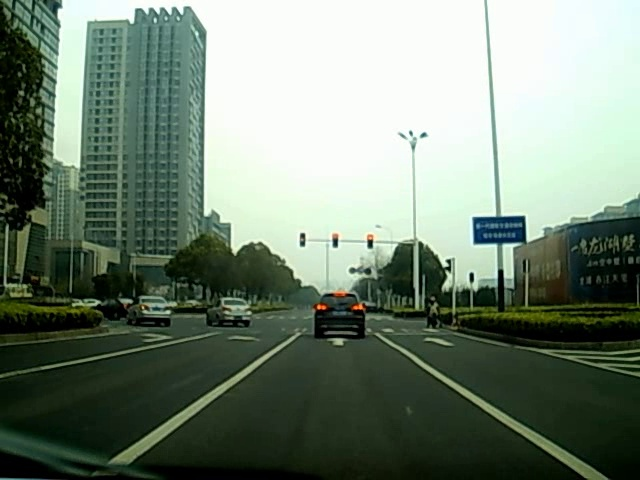Traffic_Light_stop: (367, 236, 374, 249), (332, 235, 339, 248)
